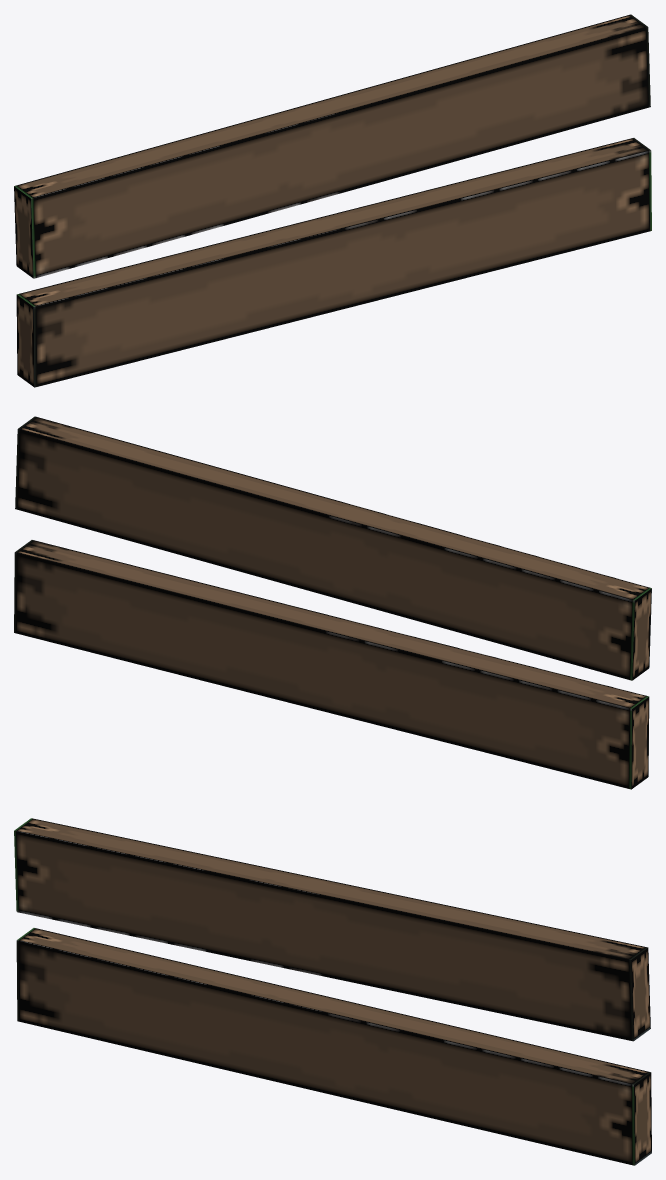
File: deco_winter_woodenFence_long.FBX
3 renders of one model, top to bottom at view 1: azimuth 30°, elevation 25°; view 2: azimuth 150°, elevation 25°; view 3: azimuth 330°, elevation 25°, orthographic.
Parts seen in each view (by area): view 1: deco_winter_woodenFence_long; view 2: deco_winter_woodenFence_long; view 3: deco_winter_woodenFence_long.
Part boxes in pixels (<box>): deco_winter_woodenFence_long: <box>14,14,651,387</box>; deco_winter_woodenFence_long: <box>14,416,651,789</box>; deco_winter_woodenFence_long: <box>14,818,651,1165</box>.
Bounding box in the file's own units: 4.02 × 1.31 × 0.1931.
1 material, 1 textured.
